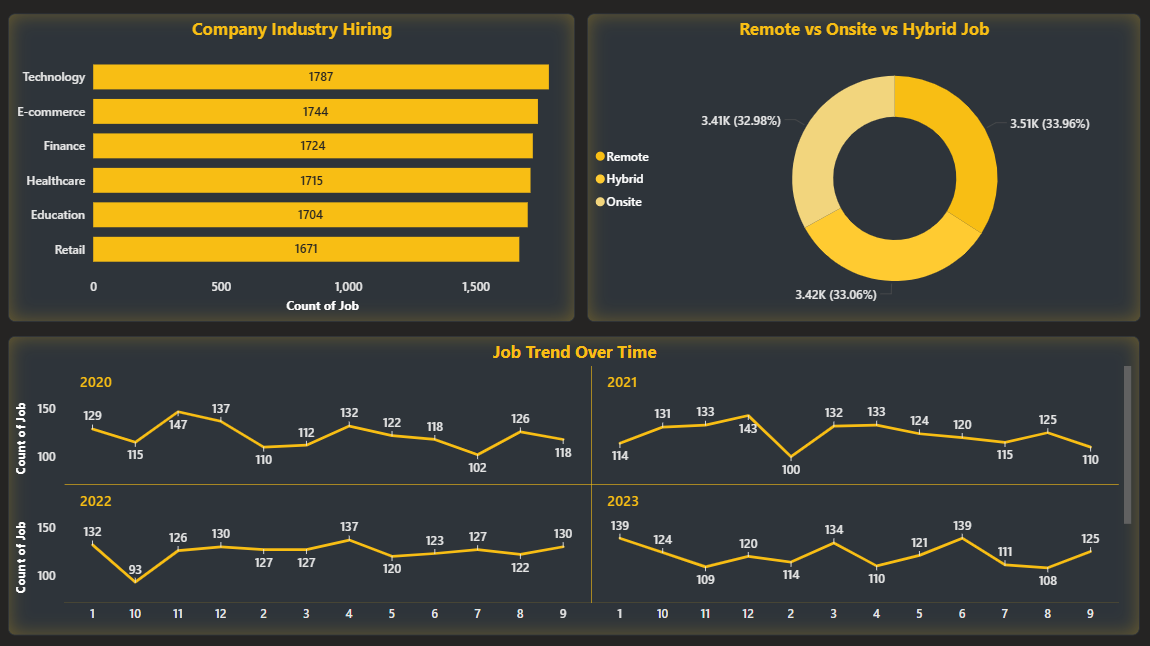

What the dashboard file says about the page in this screenshot:
{"tool":"powerbi","page":{"name":"Page 2","canvas":[1280,720],"ordinal":1},"visuals":[{"type":"clusteredBarChart","title":"Company Industry Hiring","fields":{"Category":["AI_Job_Market_Trends_2026.Company Industry"],"Y":["CountNonNull(AI_Job_Market_Trends_2026.Job ID)"]},"box":[10,15,630,342.5],"z":0},{"type":"donutChart","title":"Remote vs Onsite vs Hybrid Job","fields":{"Category":["AI_Job_Market_Trends_2026.Remote Type"],"Y":["CountNonNull(AI_Job_Market_Trends_2026.Job ID)"]},"box":[652.5,15,615,342.5],"z":1000},{"type":"lineChart","title":"Job Trend Over Time","fields":{"Category":["AI_Job_Market_Trends_2026.Job Posting Month"],"Y":["CountNonNull(AI_Job_Market_Trends_2026.Job ID)"],"Rows":["AI_Job_Market_Trends_2026.Job Posting Year"]},"box":[10,372.5,1257.5,332.5],"z":2000}]}

Visuals, with their boxes in screenshot pixels (x1, y1, x2, y2), scaled from the page's 1280x720 canvas onto the 1150x646 screenshot:
"Company Industry Hiring" clusteredBarChart: (9,13,575,321)
"Remote vs Onsite vs Hybrid Job" donutChart: (586,13,1139,321)
"Job Trend Over Time" lineChart: (9,334,1139,633)
